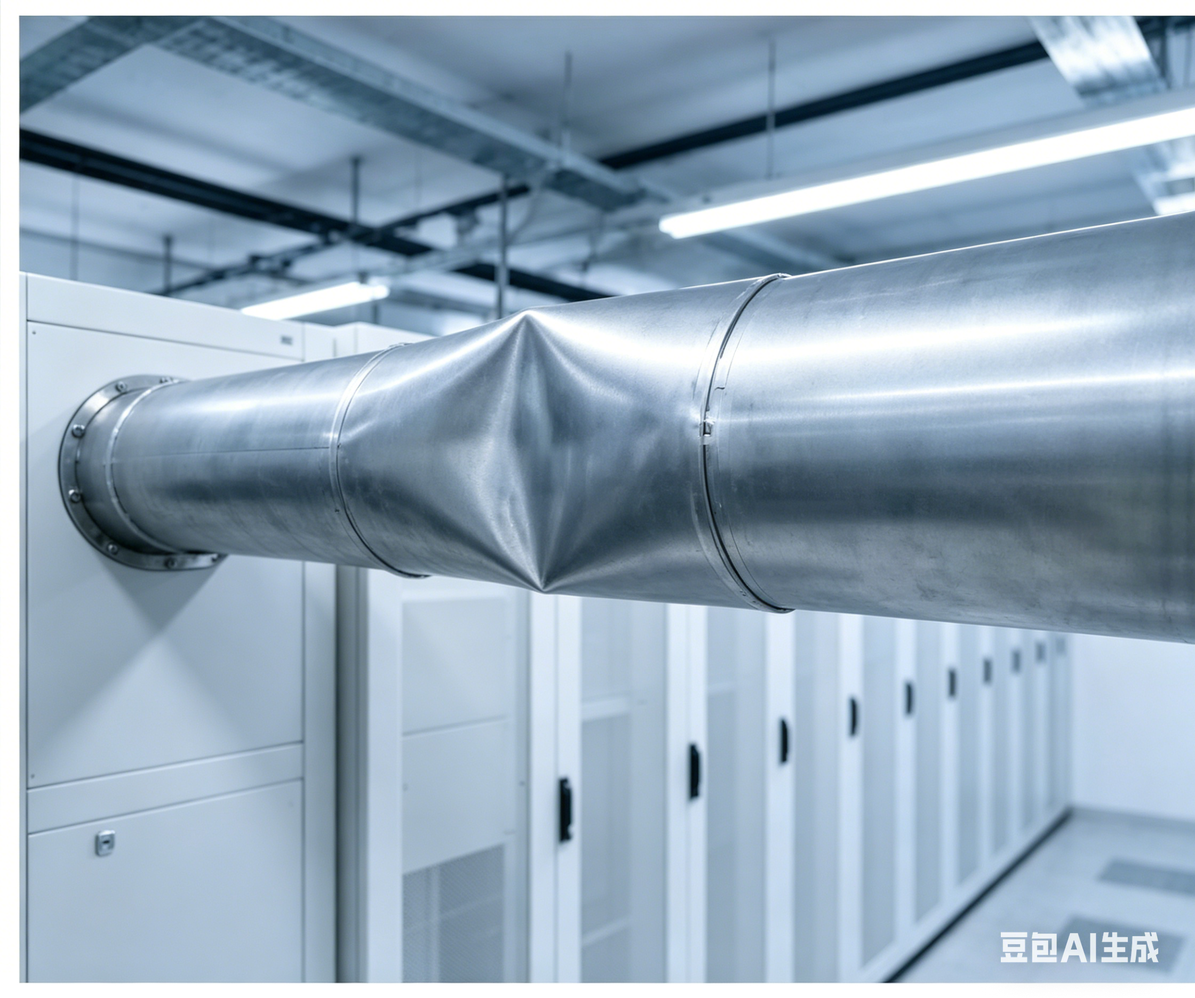Leakage: (444, 314, 650, 597)
